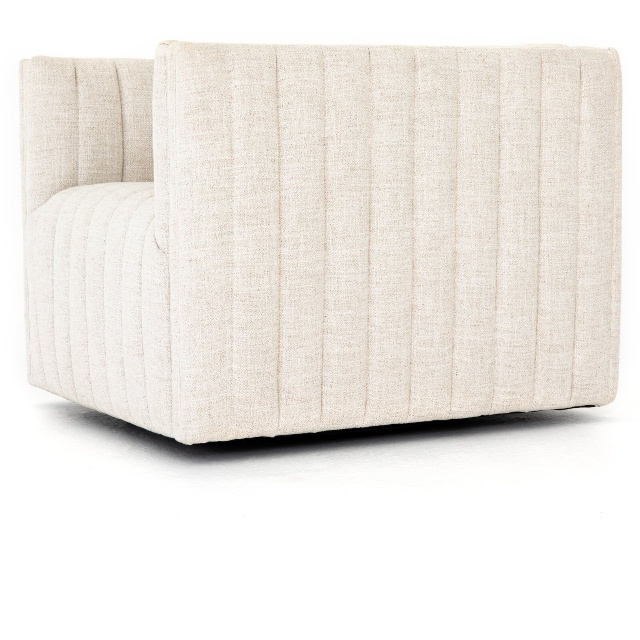obstacle: (21, 42, 620, 443)
